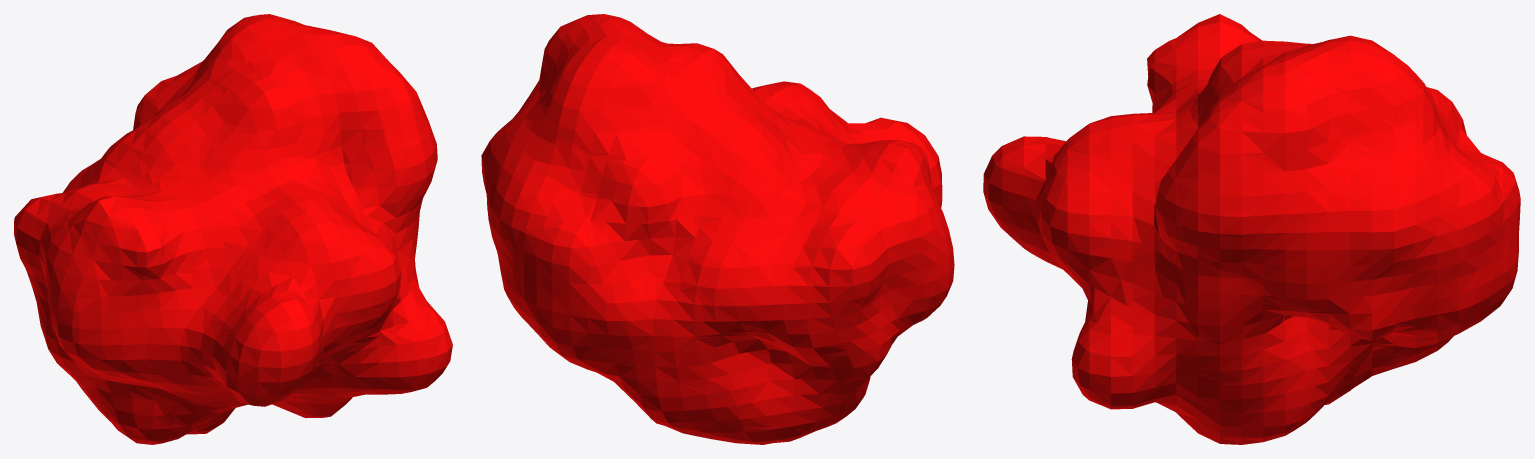
The model's file is thyA_coarse.dae.
The picture shows the model from 3 angles, left to right: view 1: azimuth 30°, elevation 25°; view 2: azimuth 150°, elevation 25°; view 3: azimuth 270°, elevation 25°; orthographic projection. The views are drawn at different scales.
Parts seen in each view (by area): view 1: thyA; view 2: thyA; view 3: thyA.
Boxes of the visible parts, left/top/right/bottom form: thyA: left=14, top=14, right=452, bottom=444; thyA: left=481, top=14, right=954, bottom=444; thyA: left=983, top=14, right=1520, bottom=444.
Bounding box in the file's own units: 52.74 × 48.63 × 57.68.
